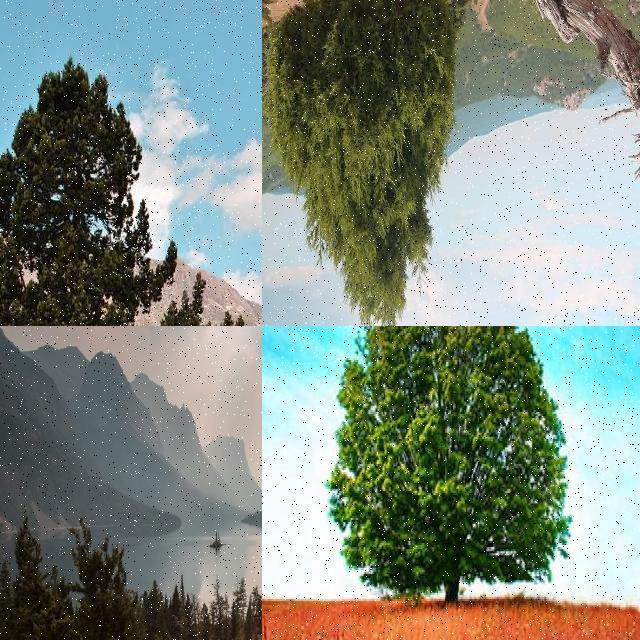tree: (265, 0, 455, 326), (340, 326, 560, 598), (0, 34, 160, 326), (1, 510, 83, 640), (70, 508, 142, 640), (262, 0, 306, 58), (167, 572, 193, 640), (213, 571, 226, 640), (262, 18, 270, 122), (262, 0, 278, 48), (262, 45, 278, 93), (250, 579, 261, 640), (262, 88, 278, 124), (262, 12, 272, 68), (243, 596, 255, 640), (262, 0, 276, 36), (228, 600, 240, 640)
